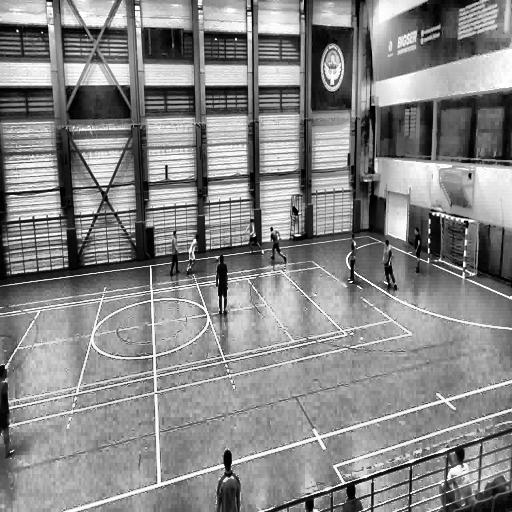ball: (215, 254, 220, 262)
player: (216, 449, 241, 511), (0, 363, 15, 457), (216, 254, 228, 314), (382, 240, 396, 290), (269, 226, 286, 262), (246, 218, 262, 254), (186, 233, 200, 274), (170, 230, 180, 276), (348, 233, 357, 284), (414, 228, 421, 274)
